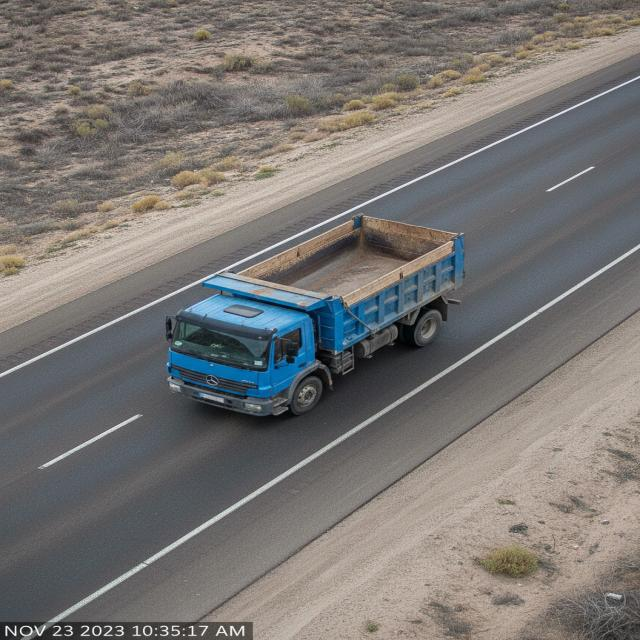trailer: (204, 215, 475, 306)
truck: (158, 193, 522, 416)
